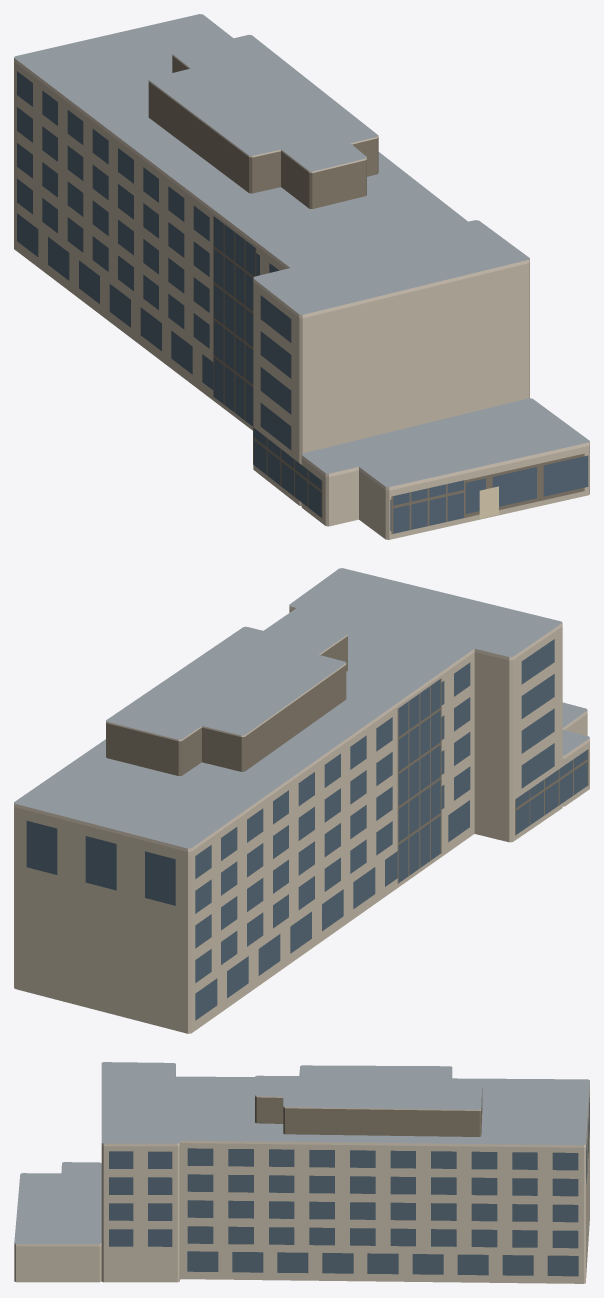
Rendered from dc-au-federal-hall.glb.
3 renders of one model, top to bottom at view 1: azimuth 30°, elevation 25°; view 2: azimuth 150°, elevation 25°; view 3: azimuth 270°, elevation 25°, orthographic. The views are drawn at different scales.
Parts seen in each view (by area): view 1: Federal Hall; view 2: Federal Hall; view 3: Federal Hall.
Part boxes in pixels (bbox=[...]): Federal Hall: bbox=[14, 14, 589, 539]; Federal Hall: bbox=[14, 568, 589, 1033]; Federal Hall: bbox=[14, 1062, 589, 1283].
Size of the model in its own units: 21.17 by 19.5 by 61.35.
